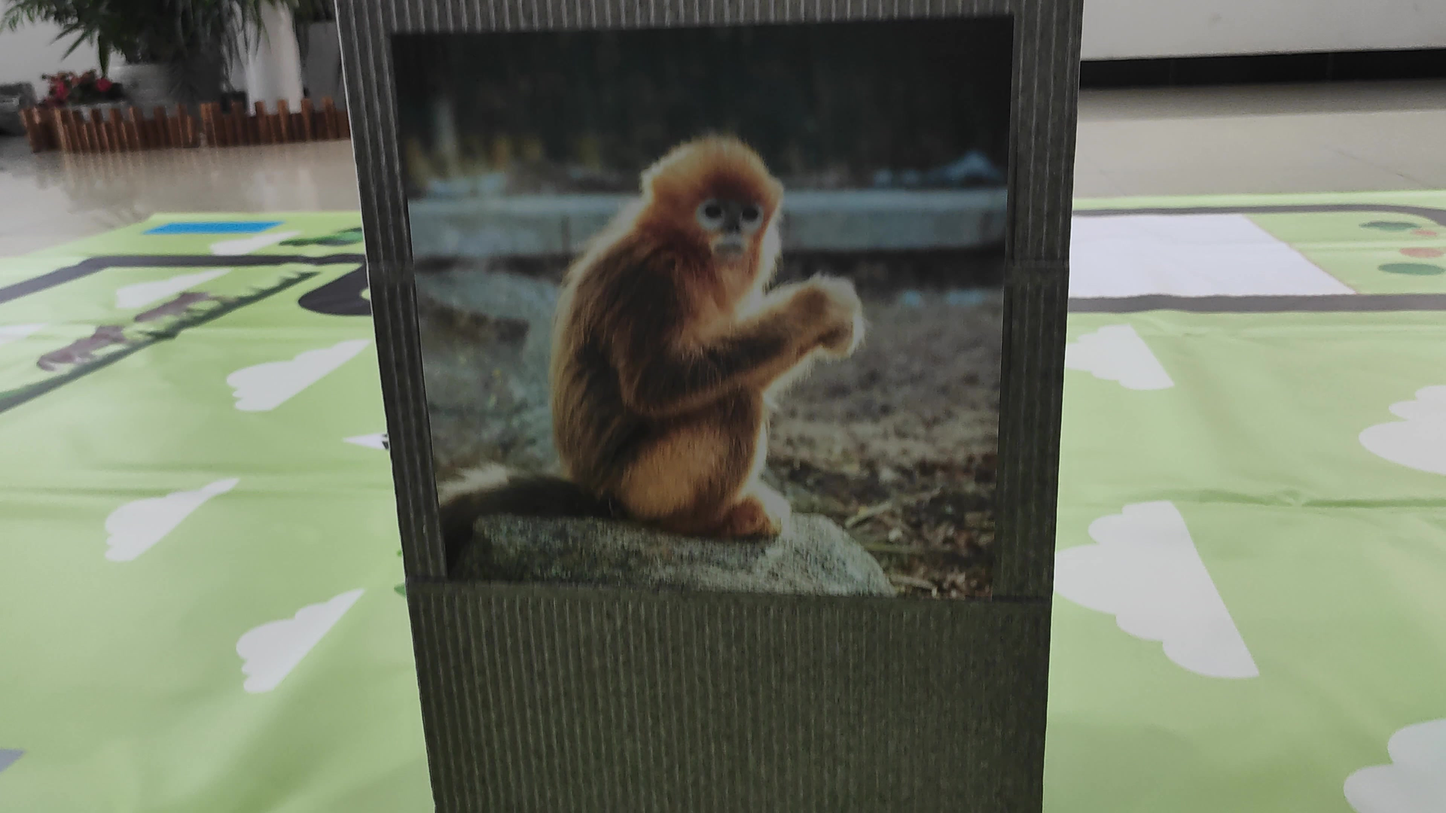monkey: (476, 66, 914, 556)
